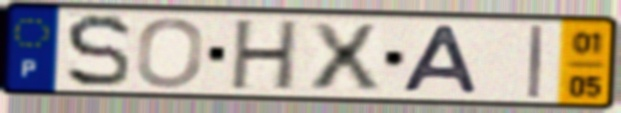A: (398, 22, 482, 97)
H: (226, 17, 302, 94)
I: (525, 22, 547, 101)
O: (133, 16, 208, 91)
S: (62, 12, 134, 91)
X: (306, 20, 384, 92)
